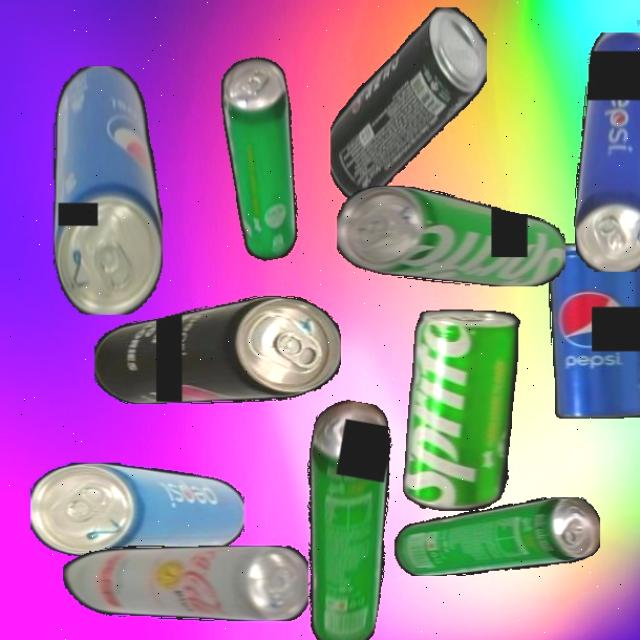debris: (276, 395, 412, 640), (402, 308, 554, 511), (329, 7, 487, 198), (52, 65, 162, 315), (93, 296, 341, 404), (337, 185, 565, 286), (211, 54, 316, 264), (31, 462, 244, 556), (62, 546, 308, 621), (394, 497, 600, 576), (548, 242, 640, 418), (573, 31, 640, 272)
